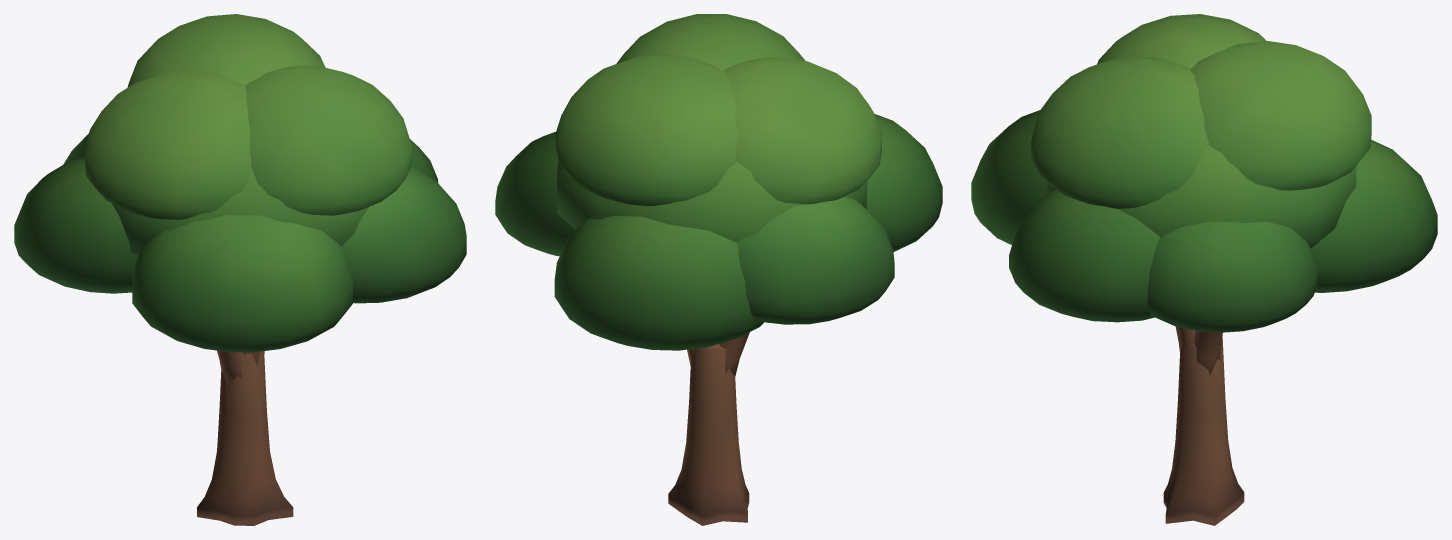
File: oak_1.glb
3 views of the same model, side by side, from view 1: azimuth 30°, elevation 25°; view 2: azimuth 150°, elevation 25°; view 3: azimuth 270°, elevation 25° (orthographic).
Parts seen in each view (by area): view 1: oak_1; view 2: oak_1; view 3: oak_1.
Boxes of the visible parts, box(x1,y1,x2,y2) form: oak_1: box(14, 14, 466, 525); oak_1: box(495, 14, 942, 525); oak_1: box(971, 14, 1437, 525).
Bounding box in the file's own units: 6.27 × 7.11 × 6.49.
